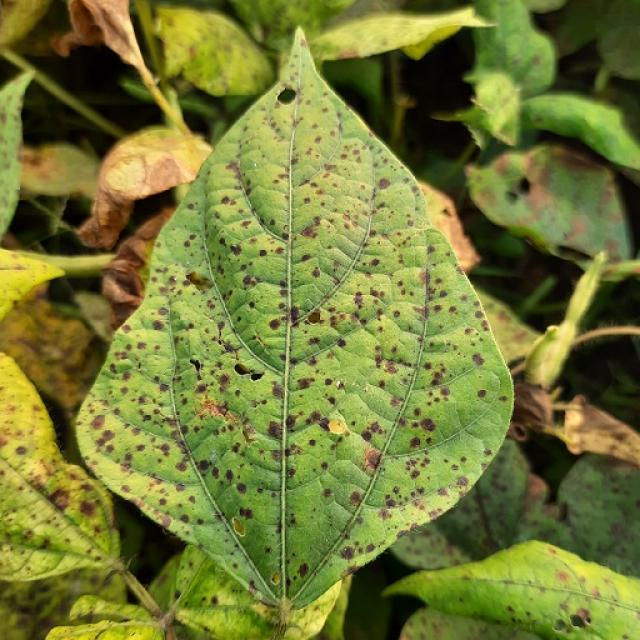Anthracnose: (521, 176, 557, 218), (197, 396, 230, 422), (296, 217, 330, 242), (361, 449, 386, 473), (48, 486, 71, 510), (78, 499, 97, 517), (266, 422, 283, 439), (574, 608, 591, 624), (232, 517, 246, 536), (340, 545, 355, 560), (420, 418, 436, 432), (234, 363, 251, 375), (471, 353, 485, 367), (289, 306, 300, 323), (268, 318, 282, 331), (556, 570, 570, 583), (239, 507, 253, 520), (307, 311, 321, 324), (377, 178, 391, 190), (298, 562, 309, 577), (242, 275, 255, 287), (456, 476, 469, 488), (175, 460, 188, 472), (14, 445, 28, 456), (270, 572, 280, 585), (236, 483, 247, 494), (477, 388, 487, 398), (168, 275, 178, 285), (337, 338, 346, 348), (259, 249, 267, 257), (286, 577, 292, 586)
Blackgram: (76, 31, 512, 619)
